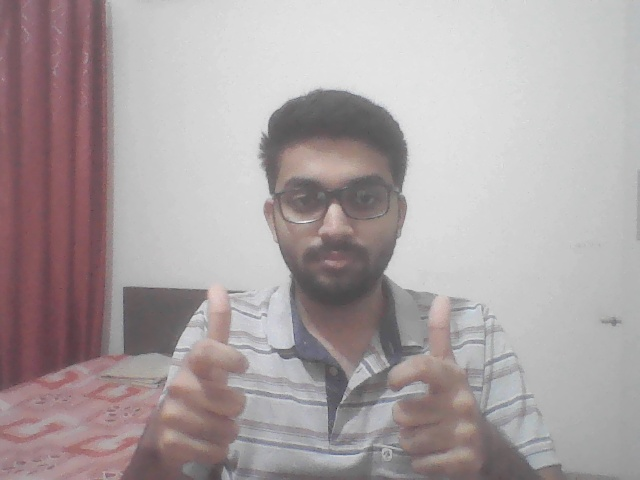big: (145, 272, 498, 476)
